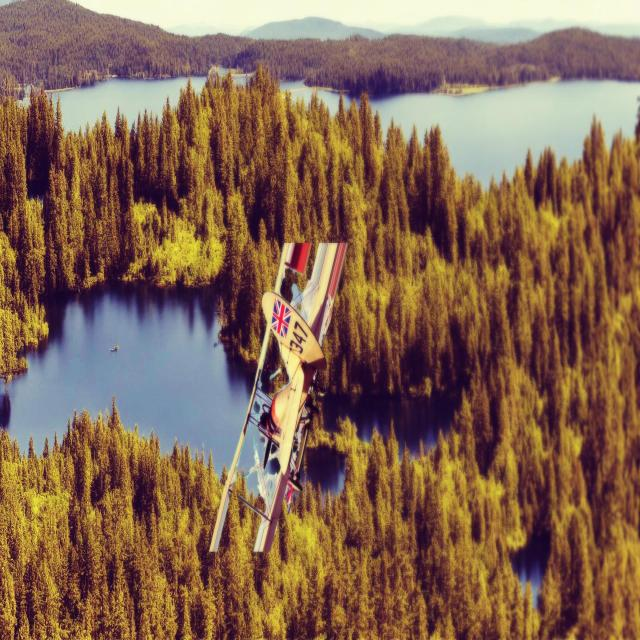airplane: (208, 239, 348, 555)
